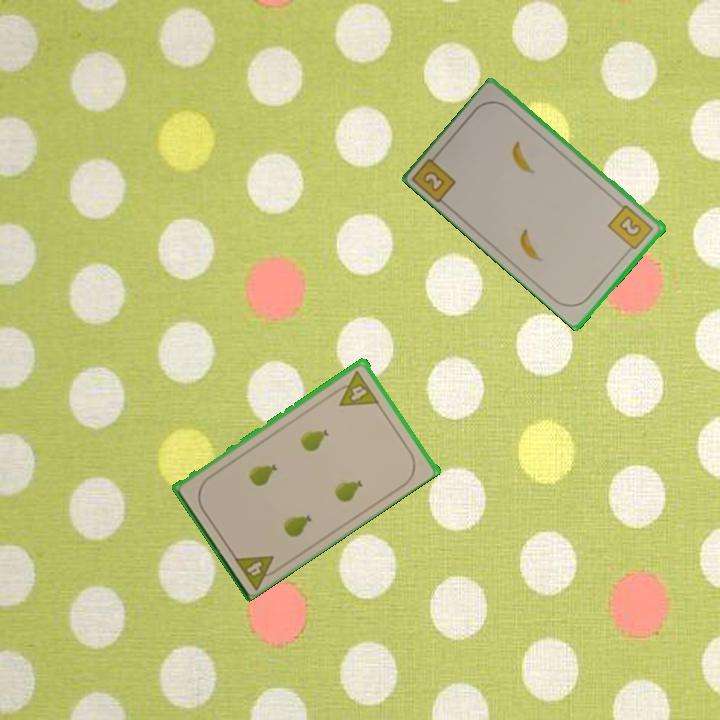2b: (605, 201, 656, 256), (411, 148, 459, 206)
4p: (329, 366, 381, 409), (230, 551, 284, 591)
